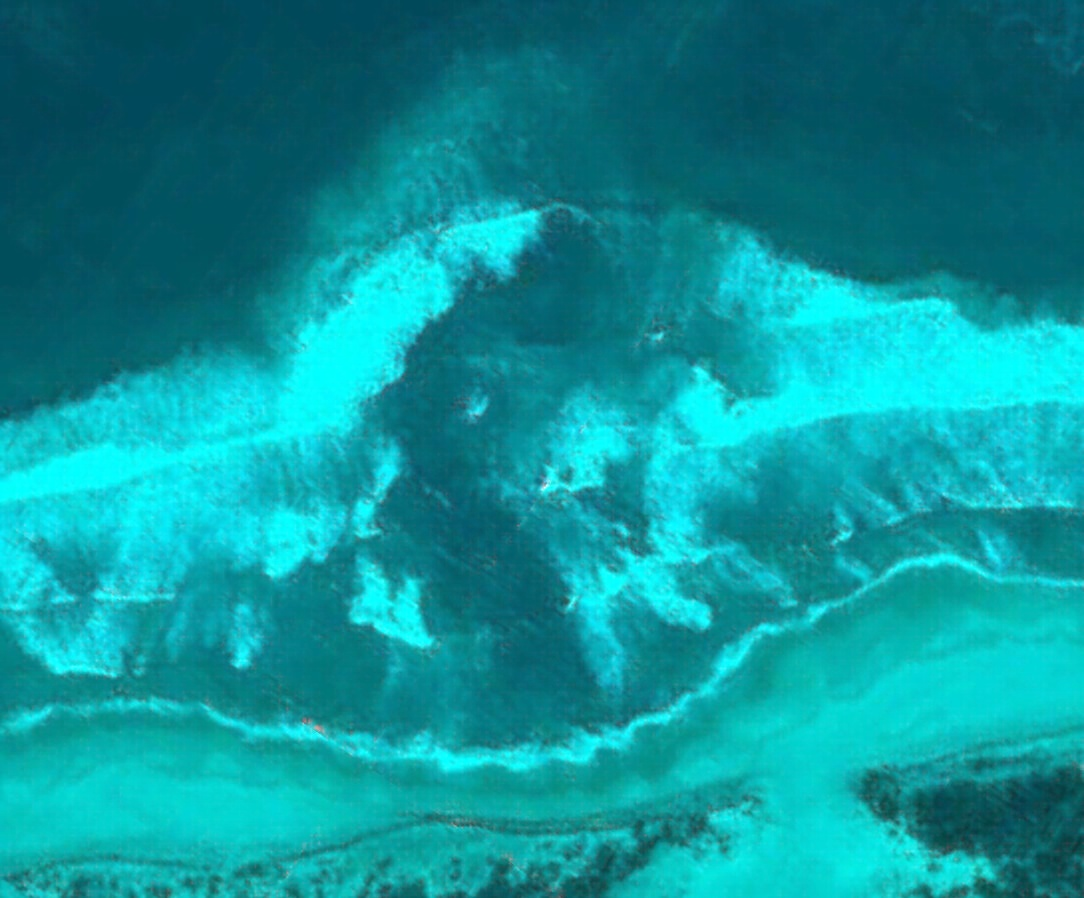rip_current: (297, 86, 693, 707)
